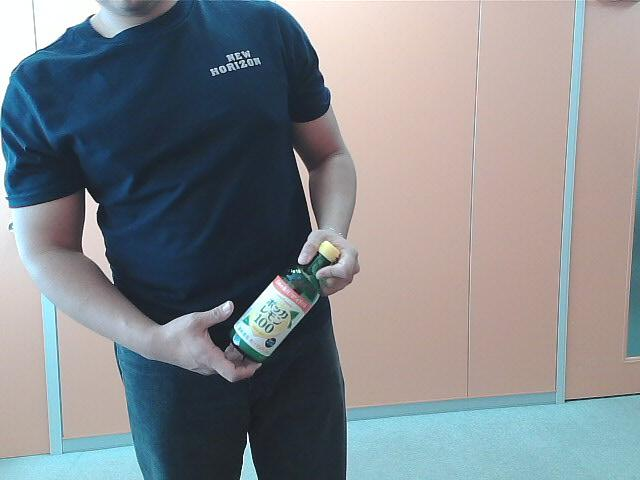Lemon_sapporo: (228, 234, 344, 363)
